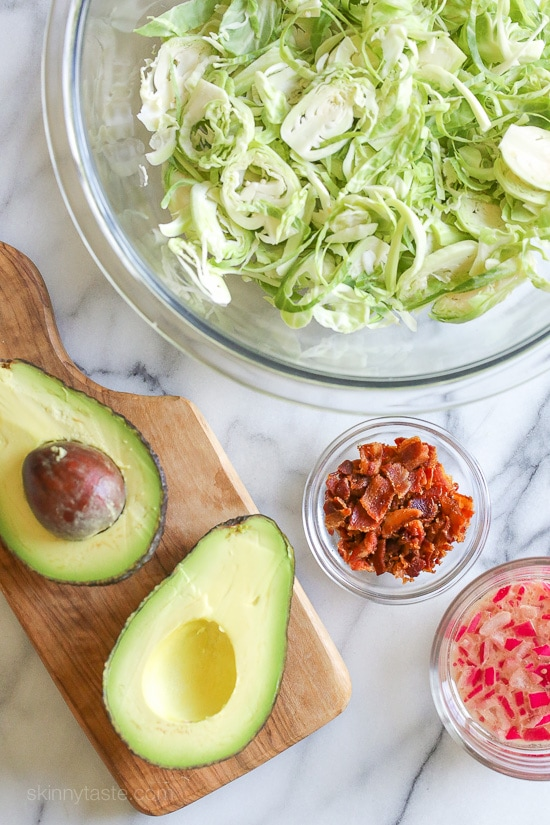bacon: (348, 446, 455, 567)
